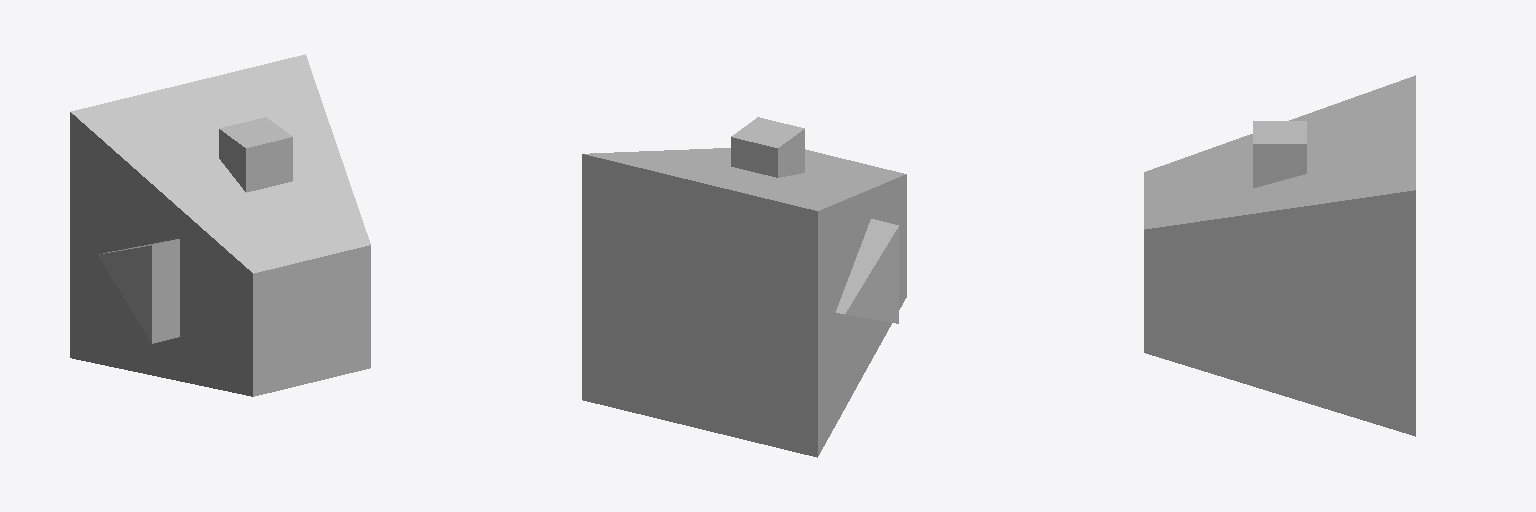
File: thing-z-x.obj
3 views of the same model, side by side, from view 1: azimuth 30°, elevation 25°; view 2: azimuth 150°, elevation 25°; view 3: azimuth 270°, elevation 25° (orthographic).
Visible parts, largest first — view 1: Cube; view 2: Cube; view 3: Cube.
Part boxes in pixels (bbox=[...]): Cube: bbox=[70, 54, 370, 396]; Cube: bbox=[582, 117, 906, 457]; Cube: bbox=[1144, 75, 1415, 436].
Size of the model in its own units: 1 by 1 by 1.